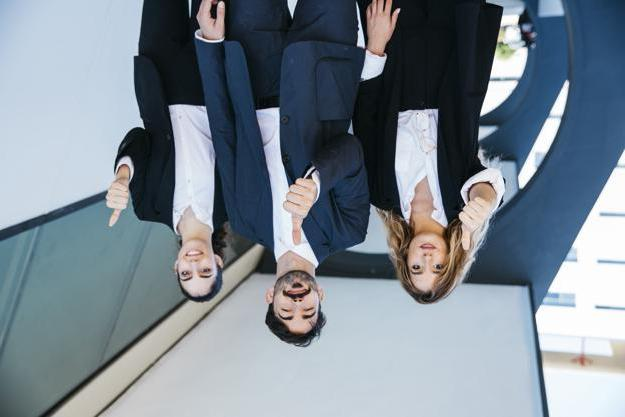thumbsdown: (283, 178, 317, 246), (459, 197, 492, 251), (106, 181, 129, 227)
